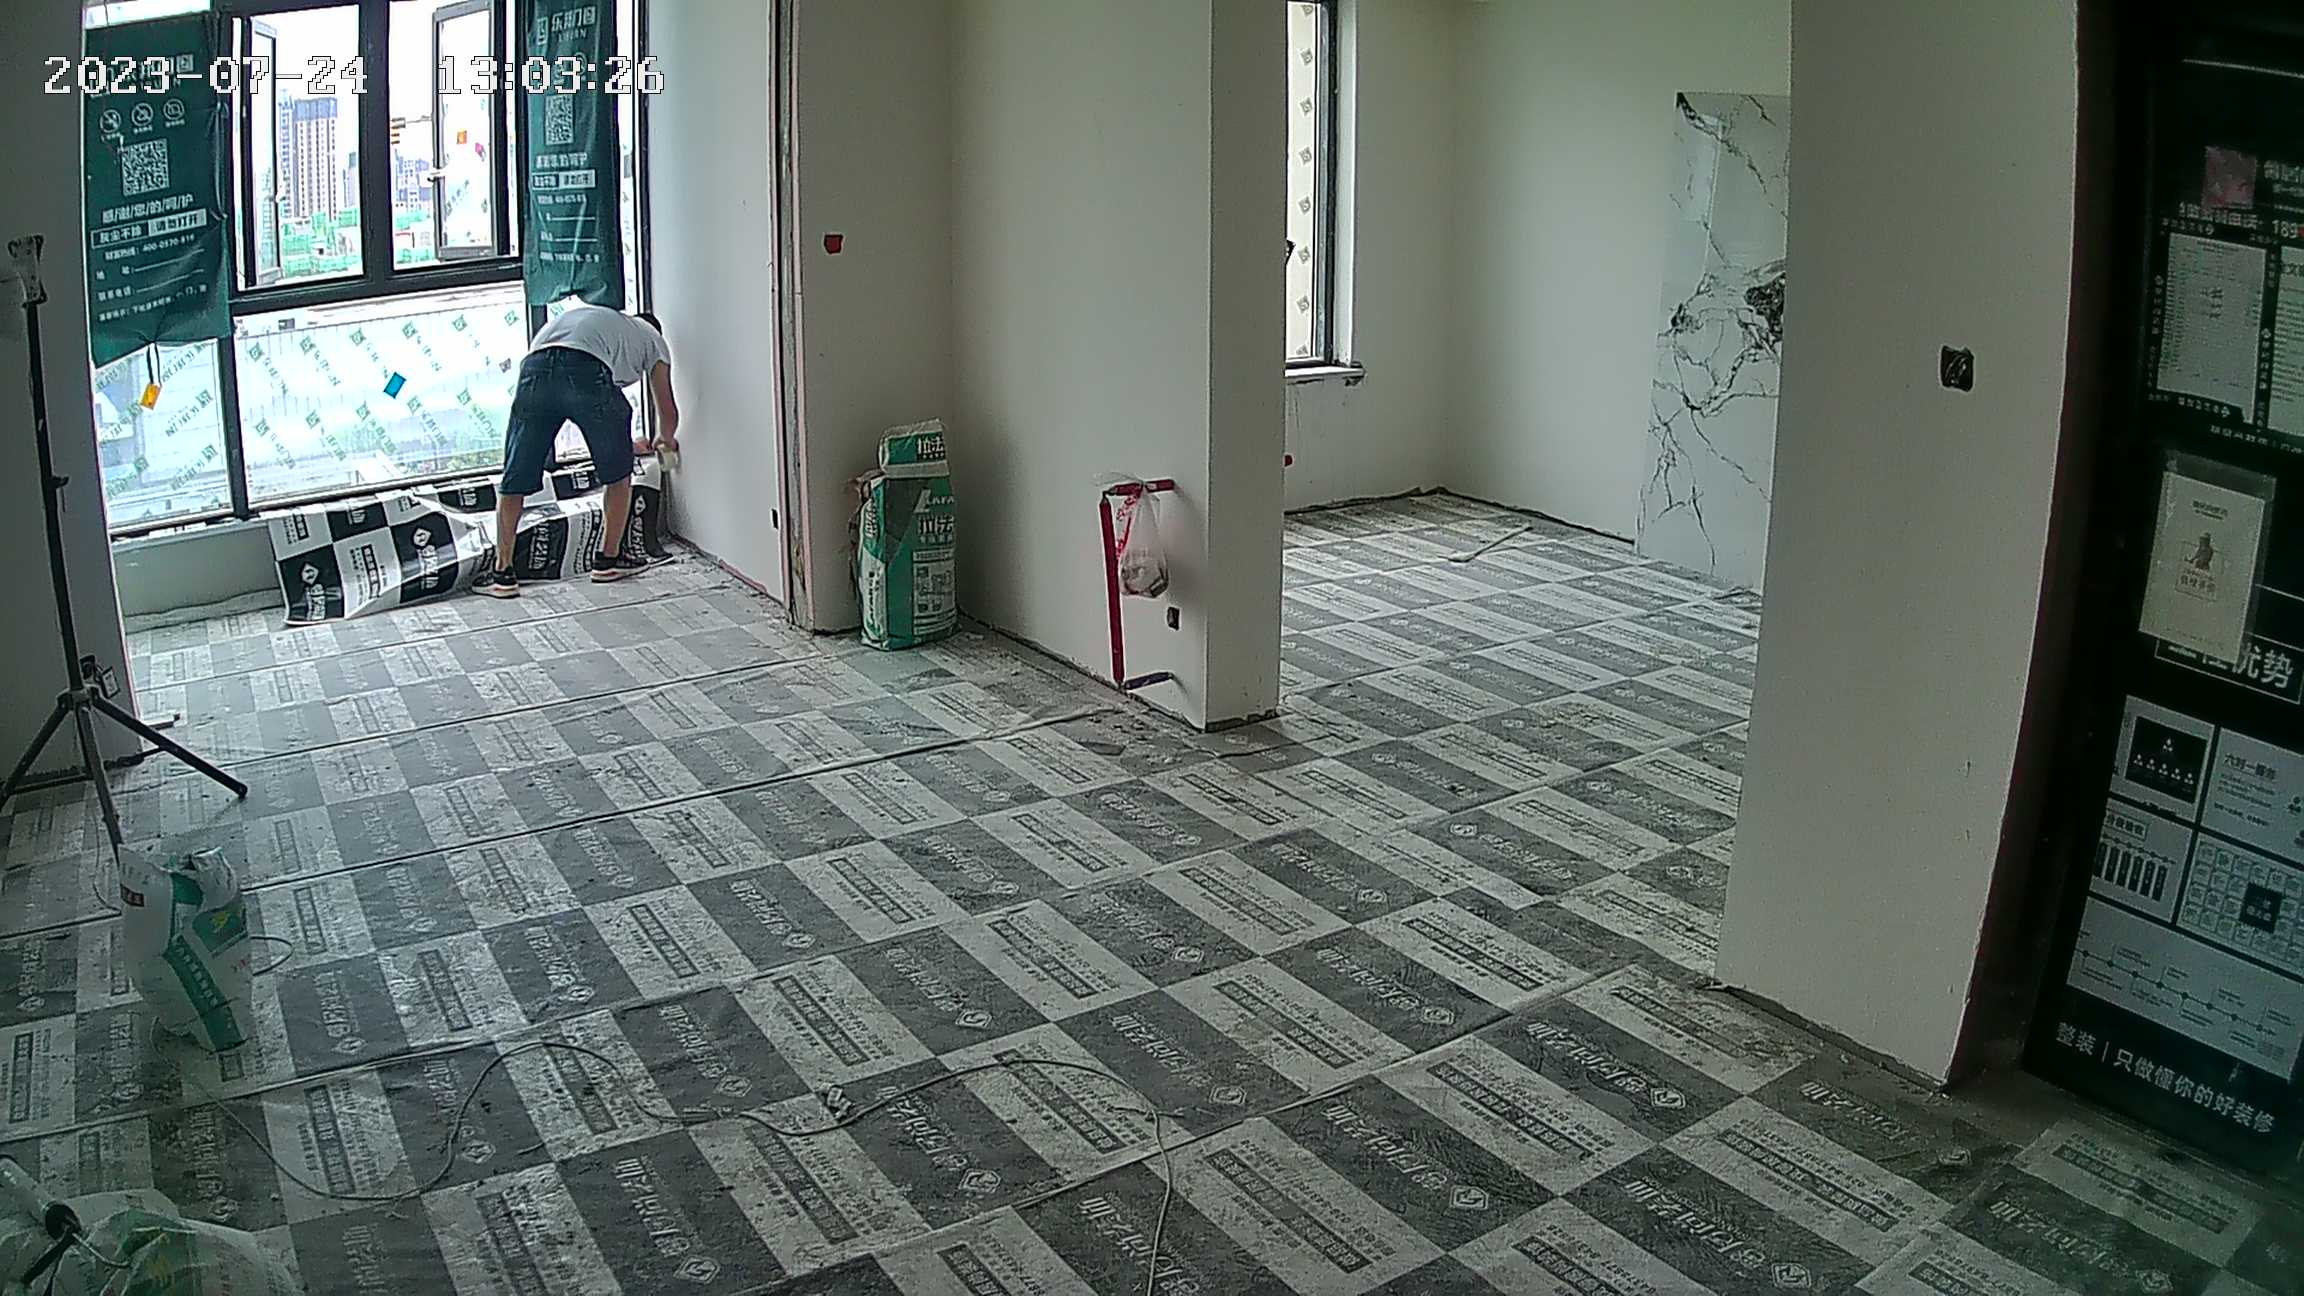people: (470, 306, 684, 597)
window: (74, 5, 650, 482), (1286, 6, 1352, 364)
